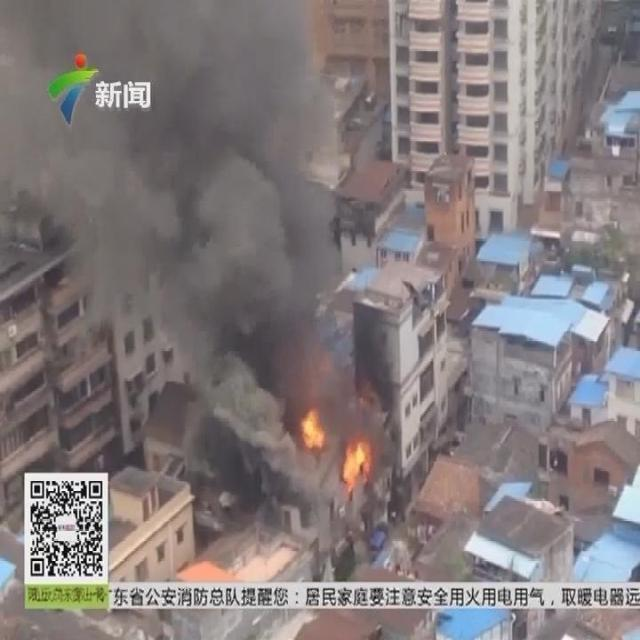Fire: (342, 442, 372, 491), (300, 408, 326, 450)
Smoke: (1, 1, 395, 507)
